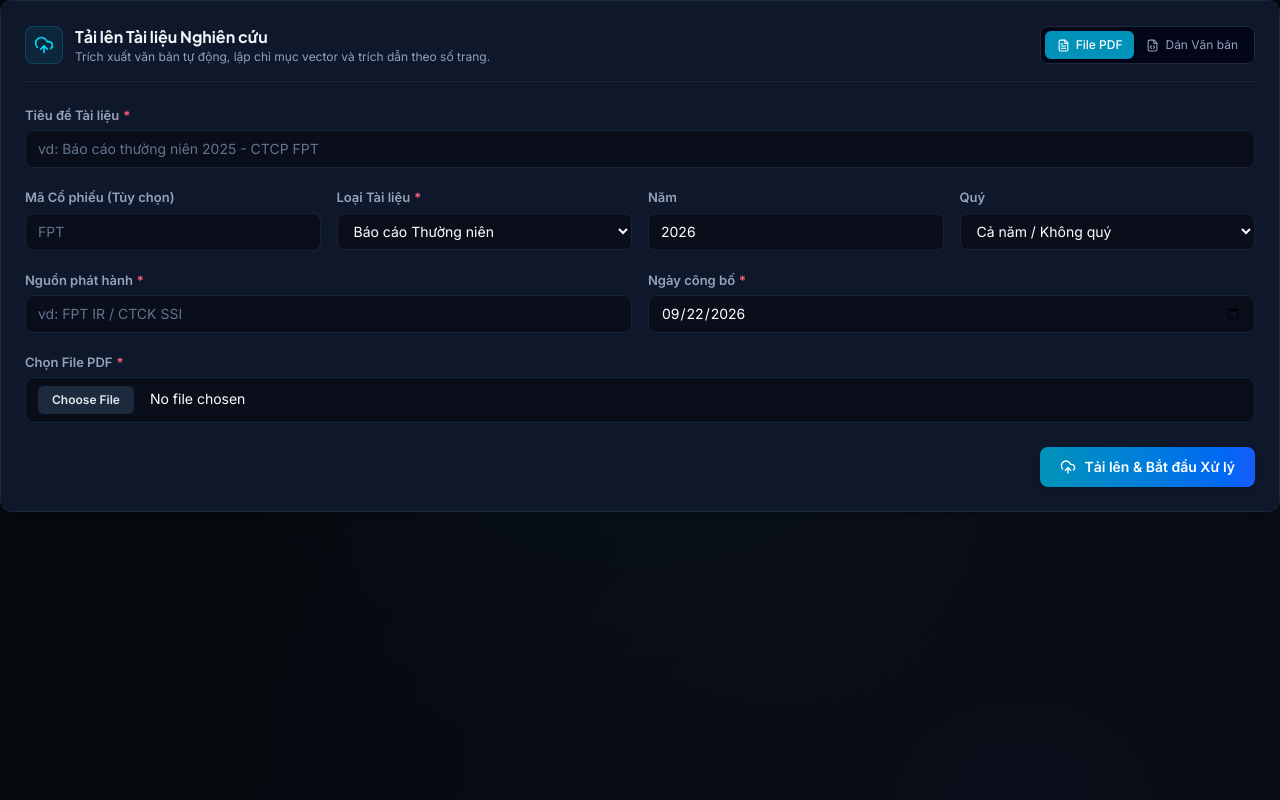
Test: Research Components (User Story 1) › DocumentUpload Component › renders form inputs and allows mode switching
Expected: the heading "Tải lên Tài liệu Nghiên cứu" is shown, [75,26,268,47]
Expected: the button "File PDF" is shown, [1045,31,1134,59]
Note: Switch to text mode
Click the button "Dán Văn bản".
click(1192, 45)  # box [1134,31,1250,59]
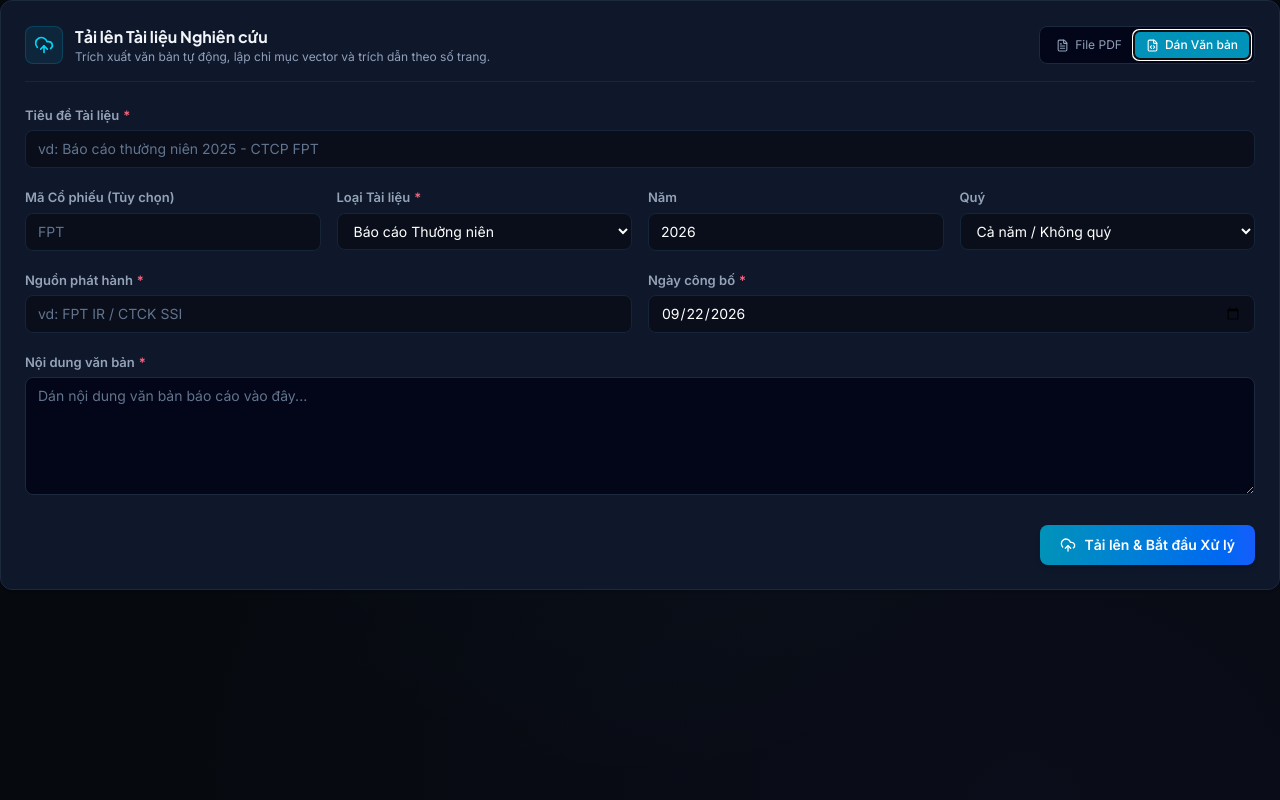
Expected: the text box with placeholder "Dán nội dung văn bản báo cáo vào đây..." is shown, [25,377,1255,495]
